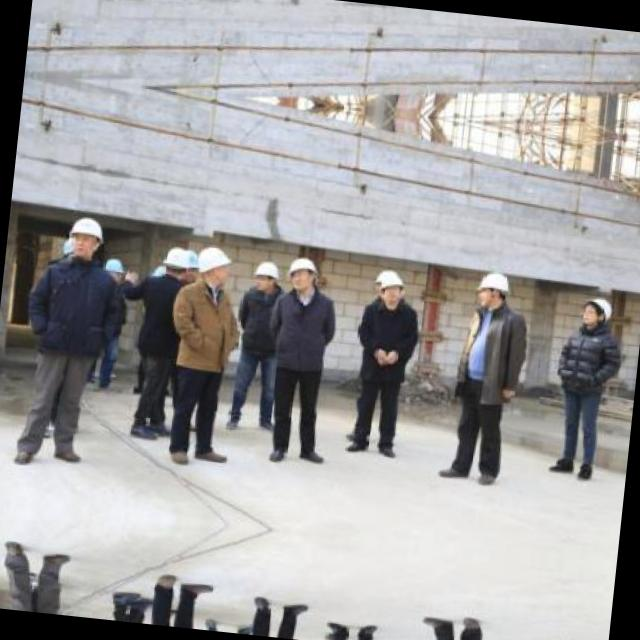helmet: (64, 209, 108, 261), (473, 266, 513, 312), (194, 246, 231, 288), (370, 267, 408, 307), (284, 254, 320, 296), (578, 290, 612, 330), (250, 256, 282, 296), (158, 243, 188, 280), (99, 252, 128, 286), (182, 248, 200, 280)
